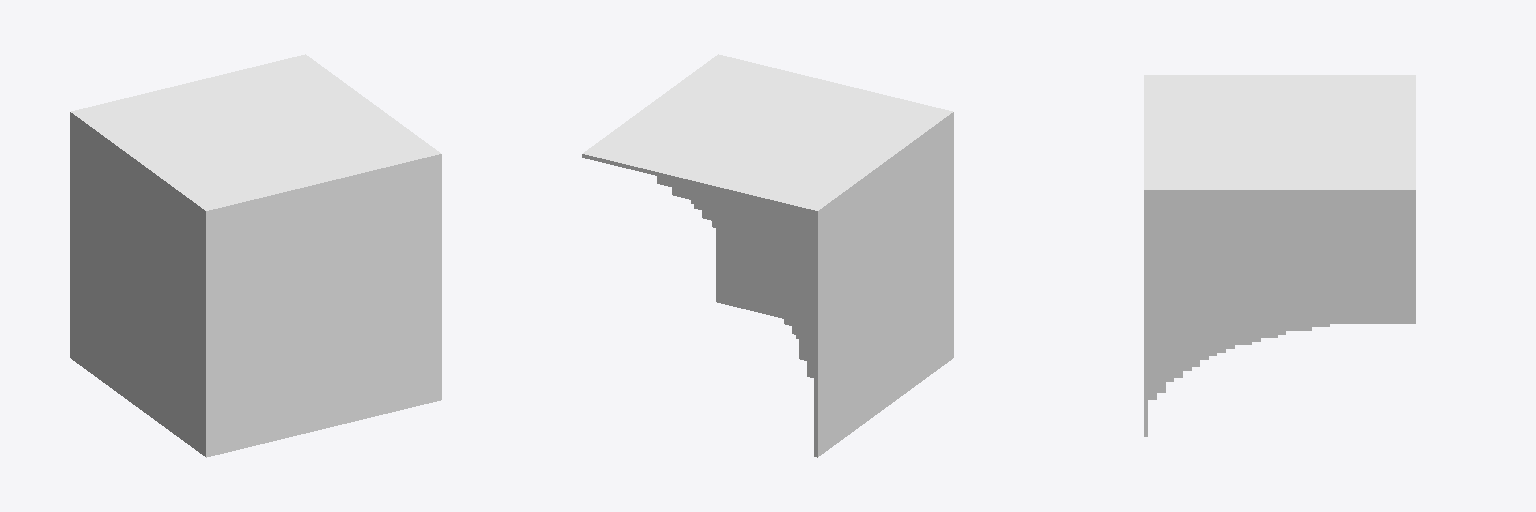
The model's file is MushroomDaddyInterior_01-2.obj.
The picture shows the model from 3 angles: view 1: azimuth 30°, elevation 25°; view 2: azimuth 150°, elevation 25°; view 3: azimuth 270°, elevation 25°; orthographic projection.
Parts seen in each view (by area): view 1: MushroomDaddyInterior_01-2; view 2: MushroomDaddyInterior_01-2; view 3: MushroomDaddyInterior_01-2.
Part boxes in pixels (left/top/right/bottom): MushroomDaddyInterior_01-2: left=70, top=54, right=441, bottom=457; MushroomDaddyInterior_01-2: left=582, top=54, right=953, bottom=457; MushroomDaddyInterior_01-2: left=1144, top=75, right=1415, bottom=436.
Bounding box in the file's own units: 126 × 126 × 126.